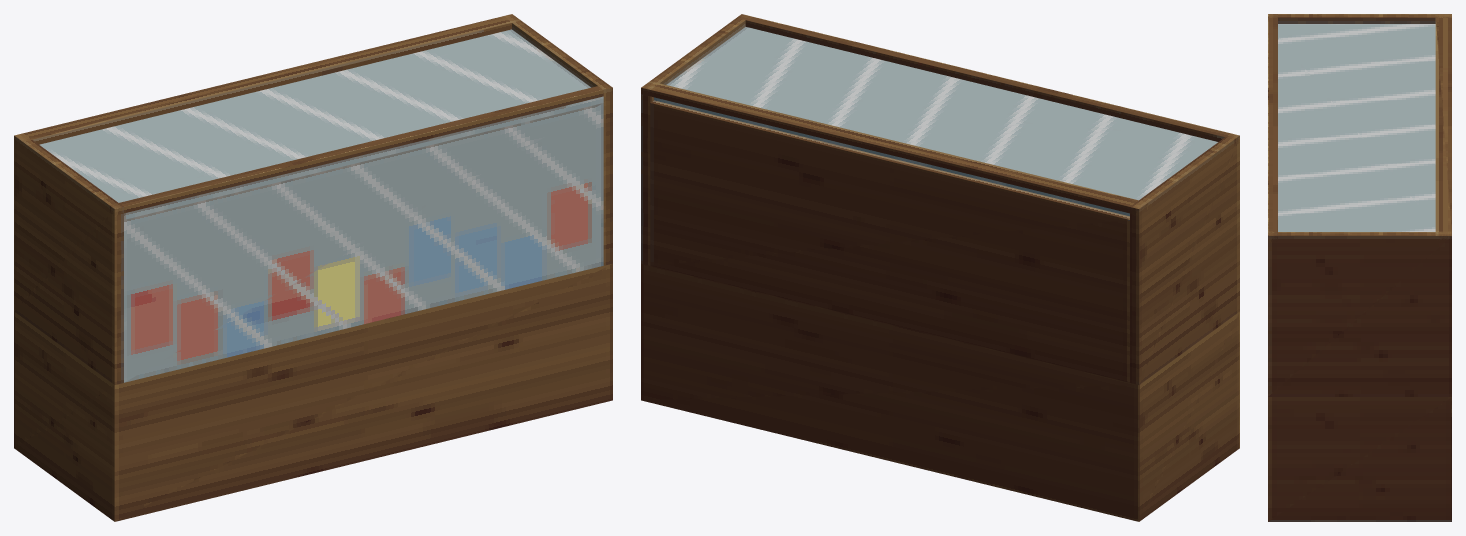
The model's file is showcase.glb.
3 renders of one model, left to right at view 1: azimuth 30°, elevation 25°; view 2: azimuth 150°, elevation 25°; view 3: azimuth 270°, elevation 25°, orthographic. The views are drawn at different scales.
Parts seen in each view (by area): view 1: mesh; view 2: mesh; view 3: mesh.
Part boxes in pixels (x1,y1,x2,y2): mesh: (14,14,612,521); mesh: (641,14,1239,521); mesh: (1268,14,1451,521).
Bounding box in the file's own units: 1.6 × 0.9601 × 0.56.
1 material, 1 textured.
